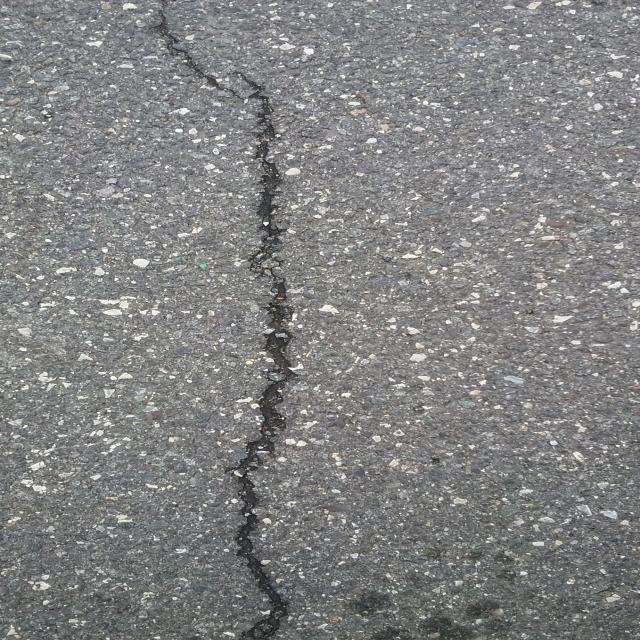Crack: (153, 0, 302, 640)
